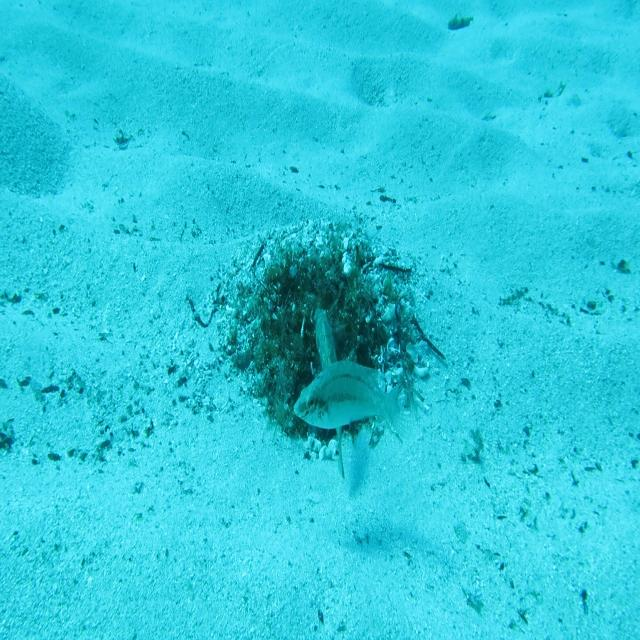FAN: (312, 303, 349, 486)
core_nest: (292, 269, 338, 308)
female: (292, 358, 411, 447)
nest: (212, 213, 434, 465)
vegetation: (445, 10, 475, 36)
